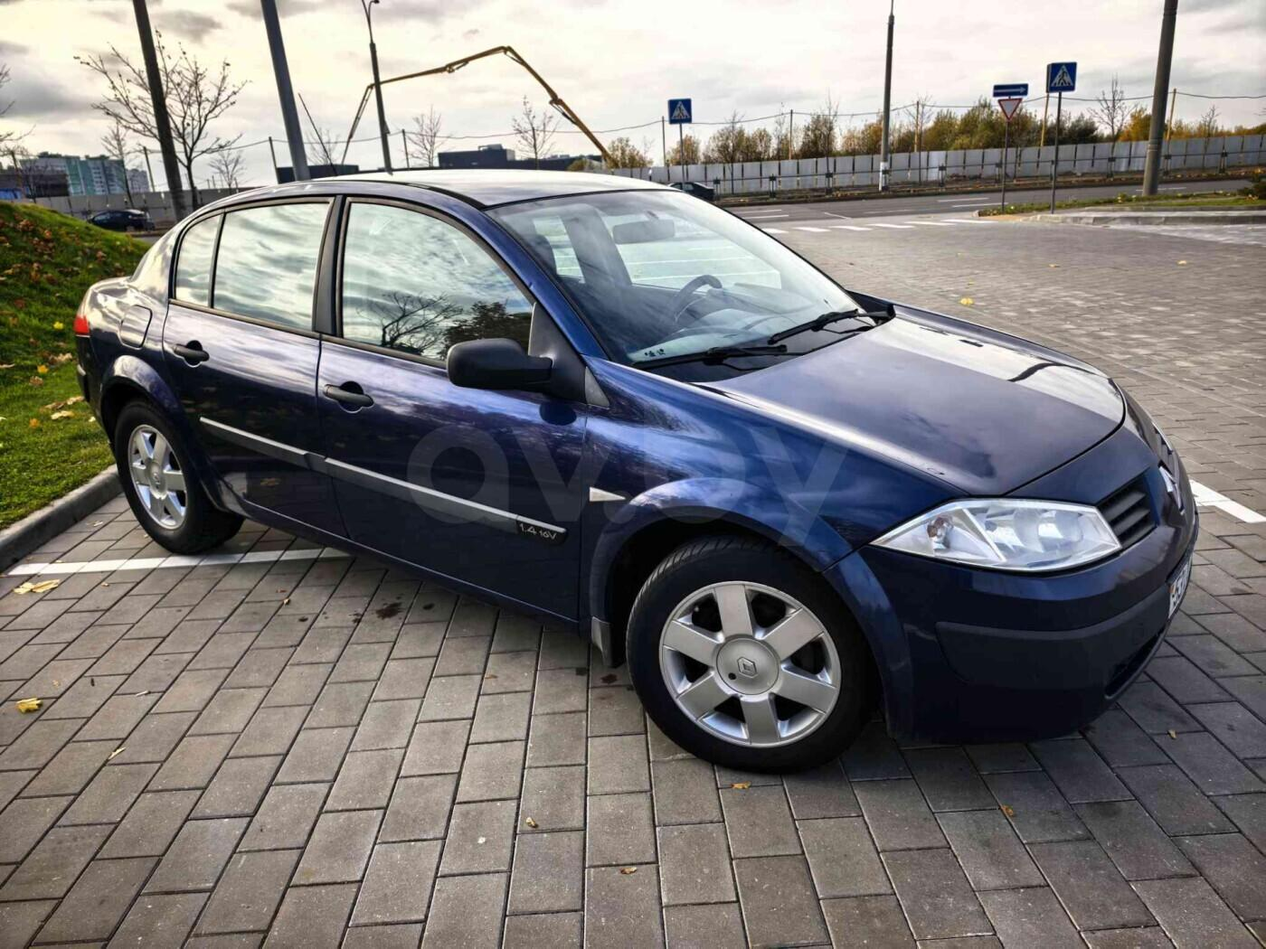Megane_2002-2006: (74, 170, 1200, 775)
